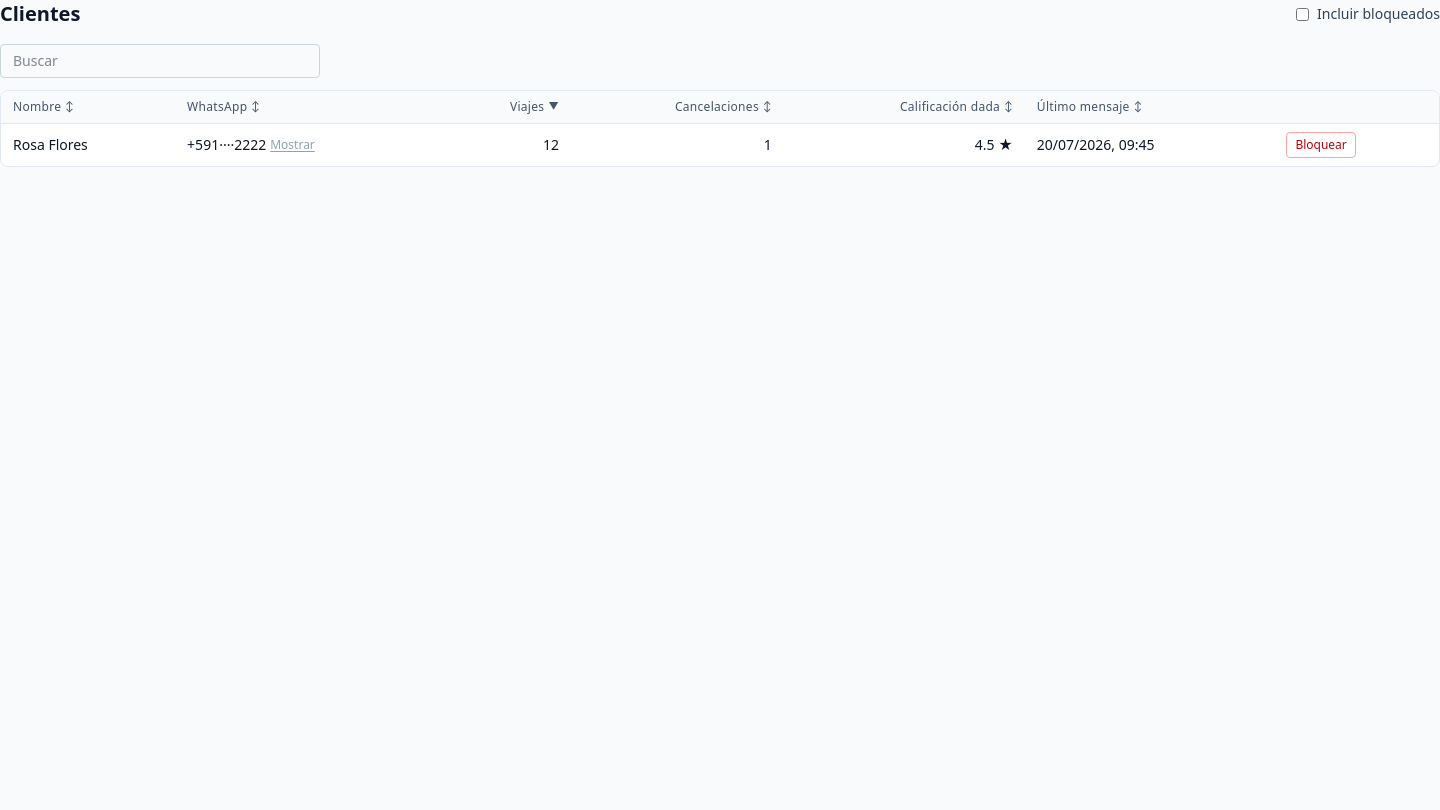
Test case: bloqueo › la confirmación nombra al cliente y envía el motivo
The image size is (1440, 810).
Click the button "Bloquear" at [1321, 145], box [1286,132,1356,158]
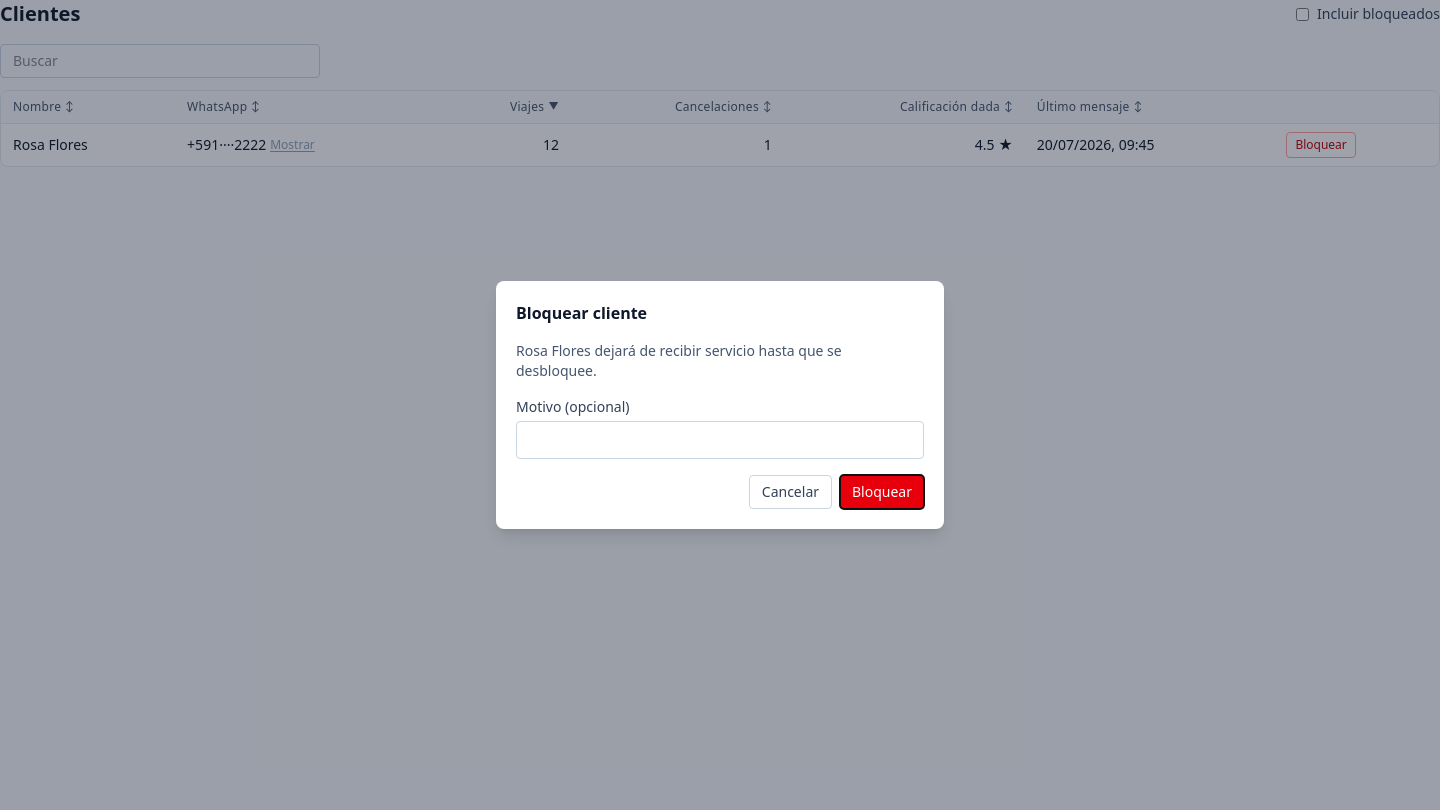
Result: the text "Rosa Flores" is shown at [516,341,842,380]
Type "no se presenta" into the field labelled "Motivo (opcional)" at [720, 440], box [516,421,924,459]
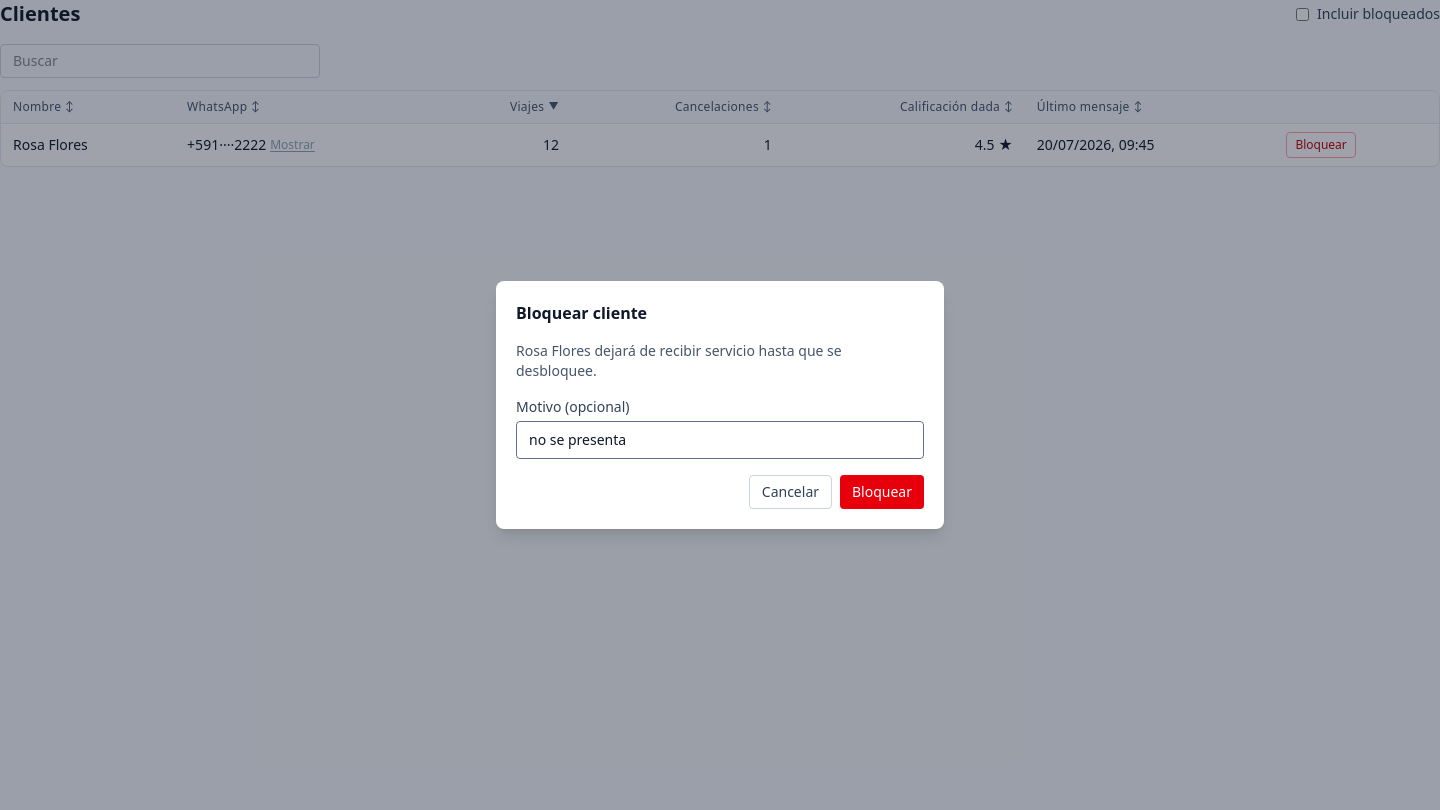
Click the button "Bloquear" at [882, 492], box [840,475,924,509]
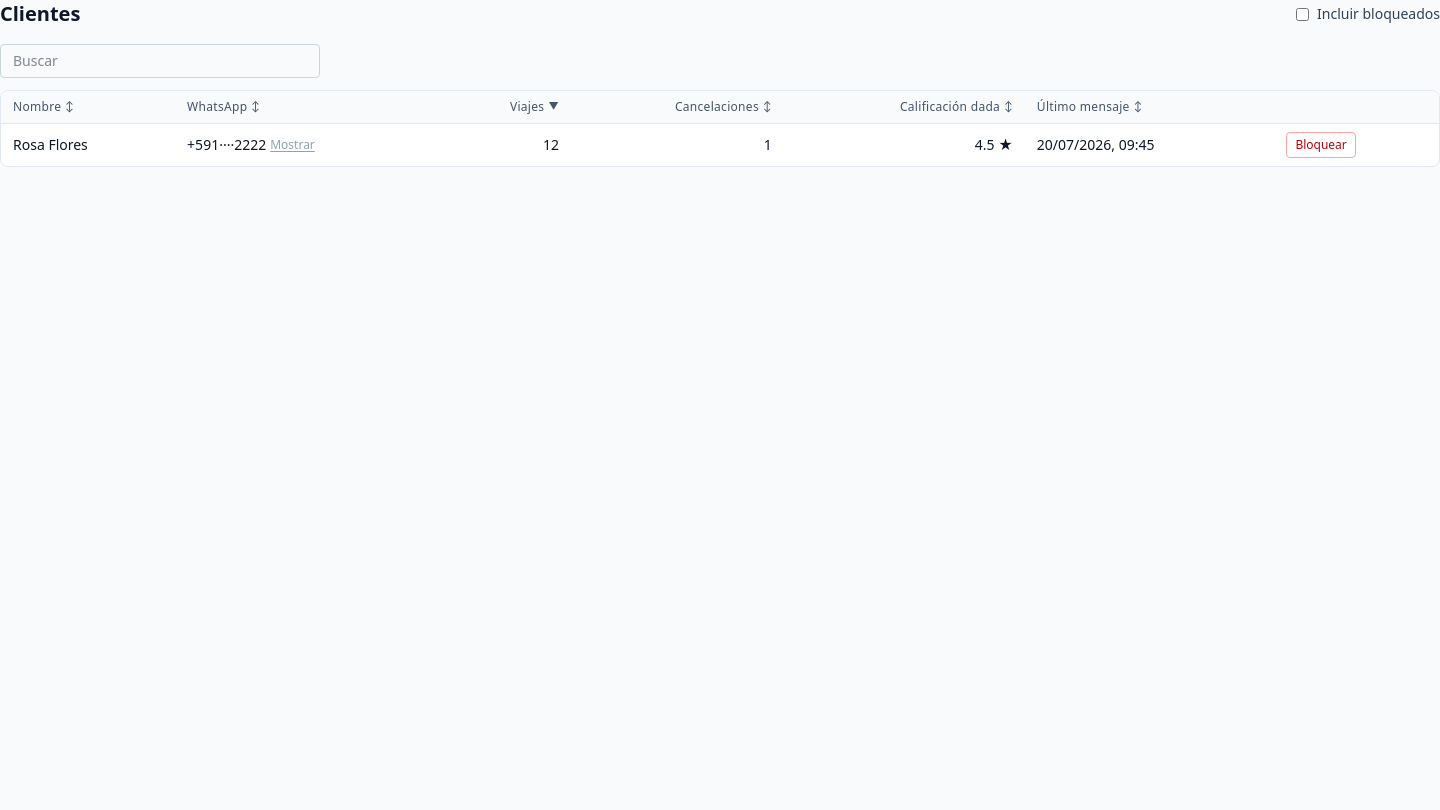
Result: the dialog is gone
